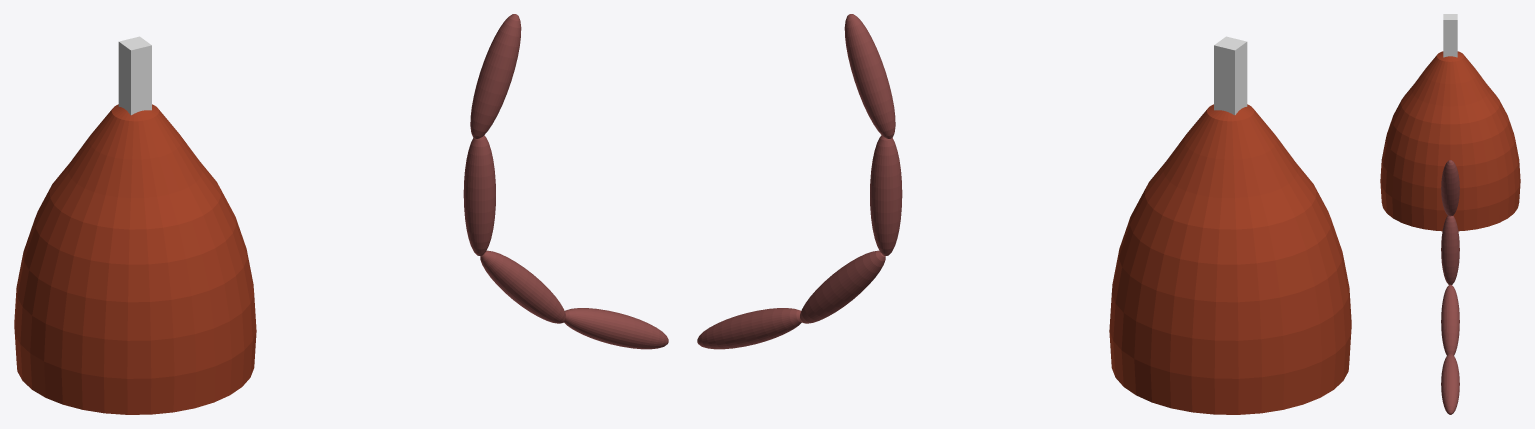
File: meat.fbx
3 views of the same model, side by side, from view 1: azimuth 30°, elevation 25°; view 2: azimuth 150°, elevation 25°; view 3: azimuth 270°, elevation 25° (orthographic). The views are drawn at different scales.
Visible parts, largest first — view 1: Sphere, Sphere.003, Sphere.002, Sphere.005, Sphere.004, Cube; view 2: Sphere, Sphere.003, Sphere.002, Sphere.005, Sphere.004, Cube; view 3: Sphere, Sphere.004, Sphere.002, Sphere.005, Sphere.003, Cube.
Boxes of the visible parts, <box> form: Sphere: <box>14,104,256,414</box>; Sphere.003: <box>470,14,521,138</box>; Sphere.002: <box>463,135,495,255</box>; Sphere.005: <box>564,308,668,349</box>; Sphere.004: <box>480,250,565,323</box>; Cube: <box>118,36,151,115</box>; Sphere: <box>1109,104,1351,414</box>; Sphere.003: <box>844,14,895,138</box>; Sphere.002: <box>870,135,902,255</box>; Sphere.005: <box>697,308,801,349</box>; Sphere.004: <box>800,250,885,323</box>; Cube: <box>1214,36,1247,115</box>; Sphere: <box>1380,51,1520,231</box>; Sphere.004: <box>1441,284,1459,355</box>; Sphere.002: <box>1441,216,1459,284</box>; Sphere.005: <box>1441,353,1459,414</box>; Sphere.003: <box>1441,160,1459,216</box>; Cube: <box>1443,14,1457,57</box>.
Size of the model in its own units: 958 by 619 by 316.
